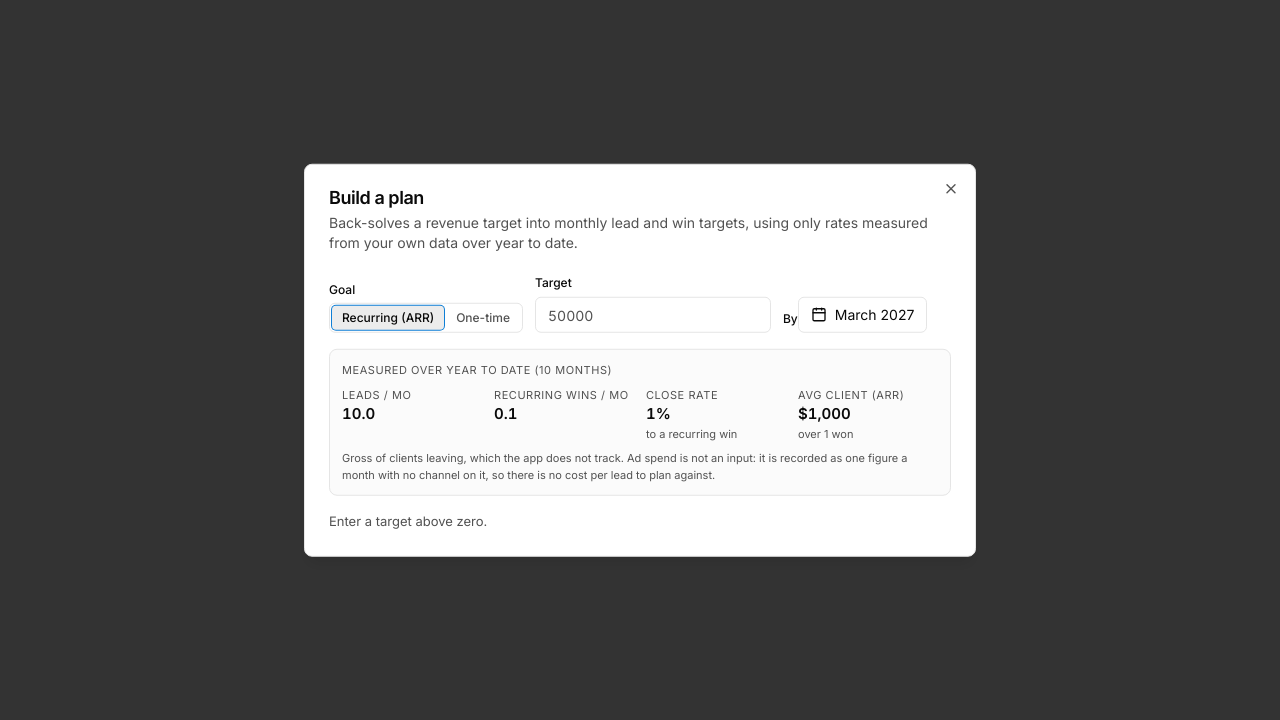
Scenario: GoalBuilderDialog › paces a one-time goal on one-time wins
Click the radio button labelled "One-time" at (483, 318), box [446,306,520,330]
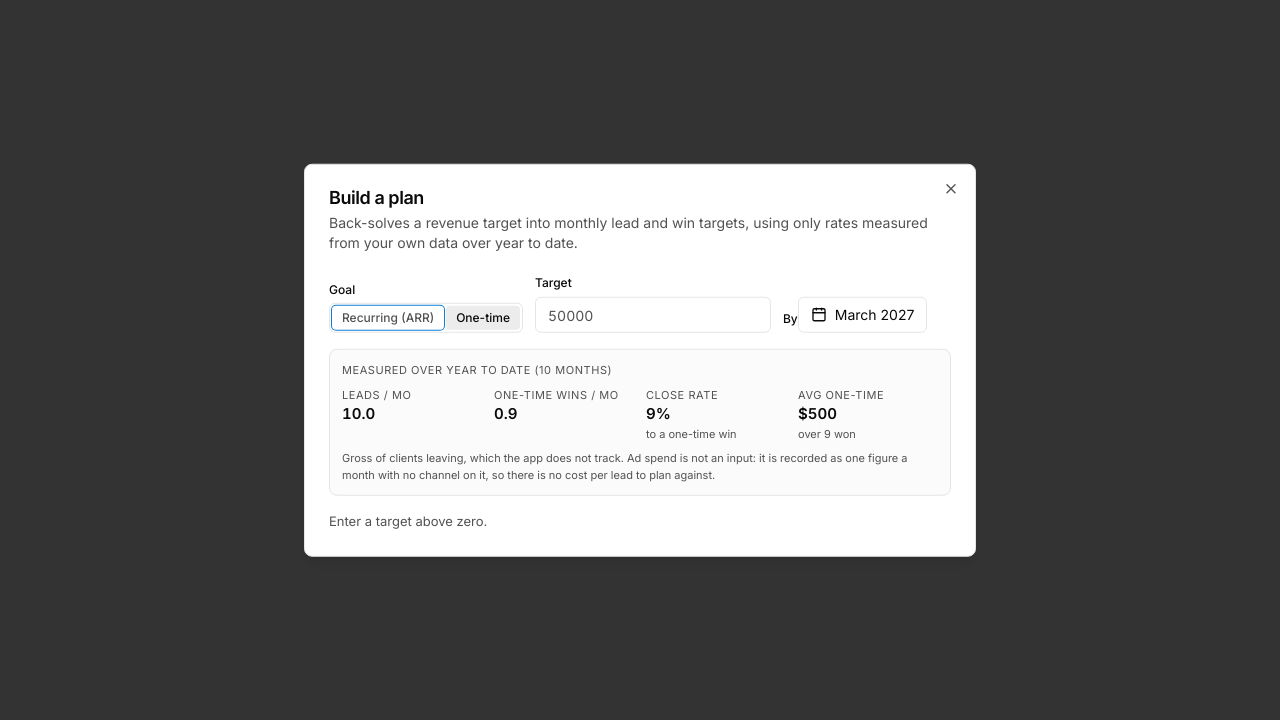
Expected: the text "One-time wins / mo" is shown, [494,386,634,403]
Expected: the text "0.9" is shown, [494,404,517,423]
Expected: the text "9%" is shown, [646,404,671,423]
